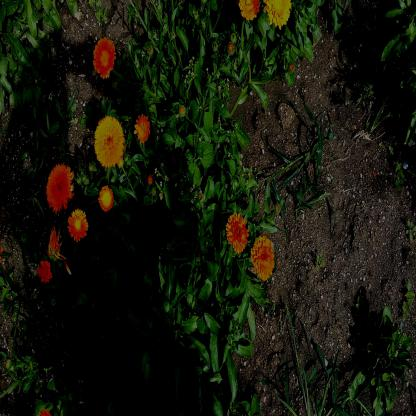marigold: (93, 115, 125, 169), (44, 162, 74, 214), (250, 234, 275, 281), (225, 210, 249, 255), (92, 37, 115, 79), (68, 208, 88, 242), (134, 113, 150, 143)
